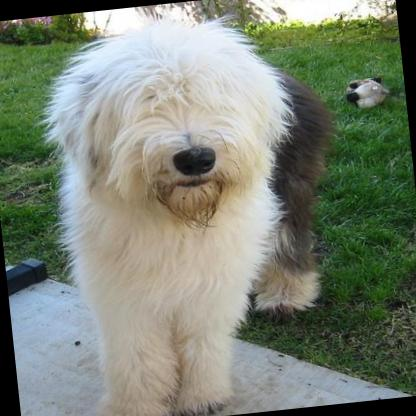Old_English_sheepdog: (42, 5, 354, 416)
